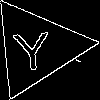Y: (11, 22, 52, 71)
